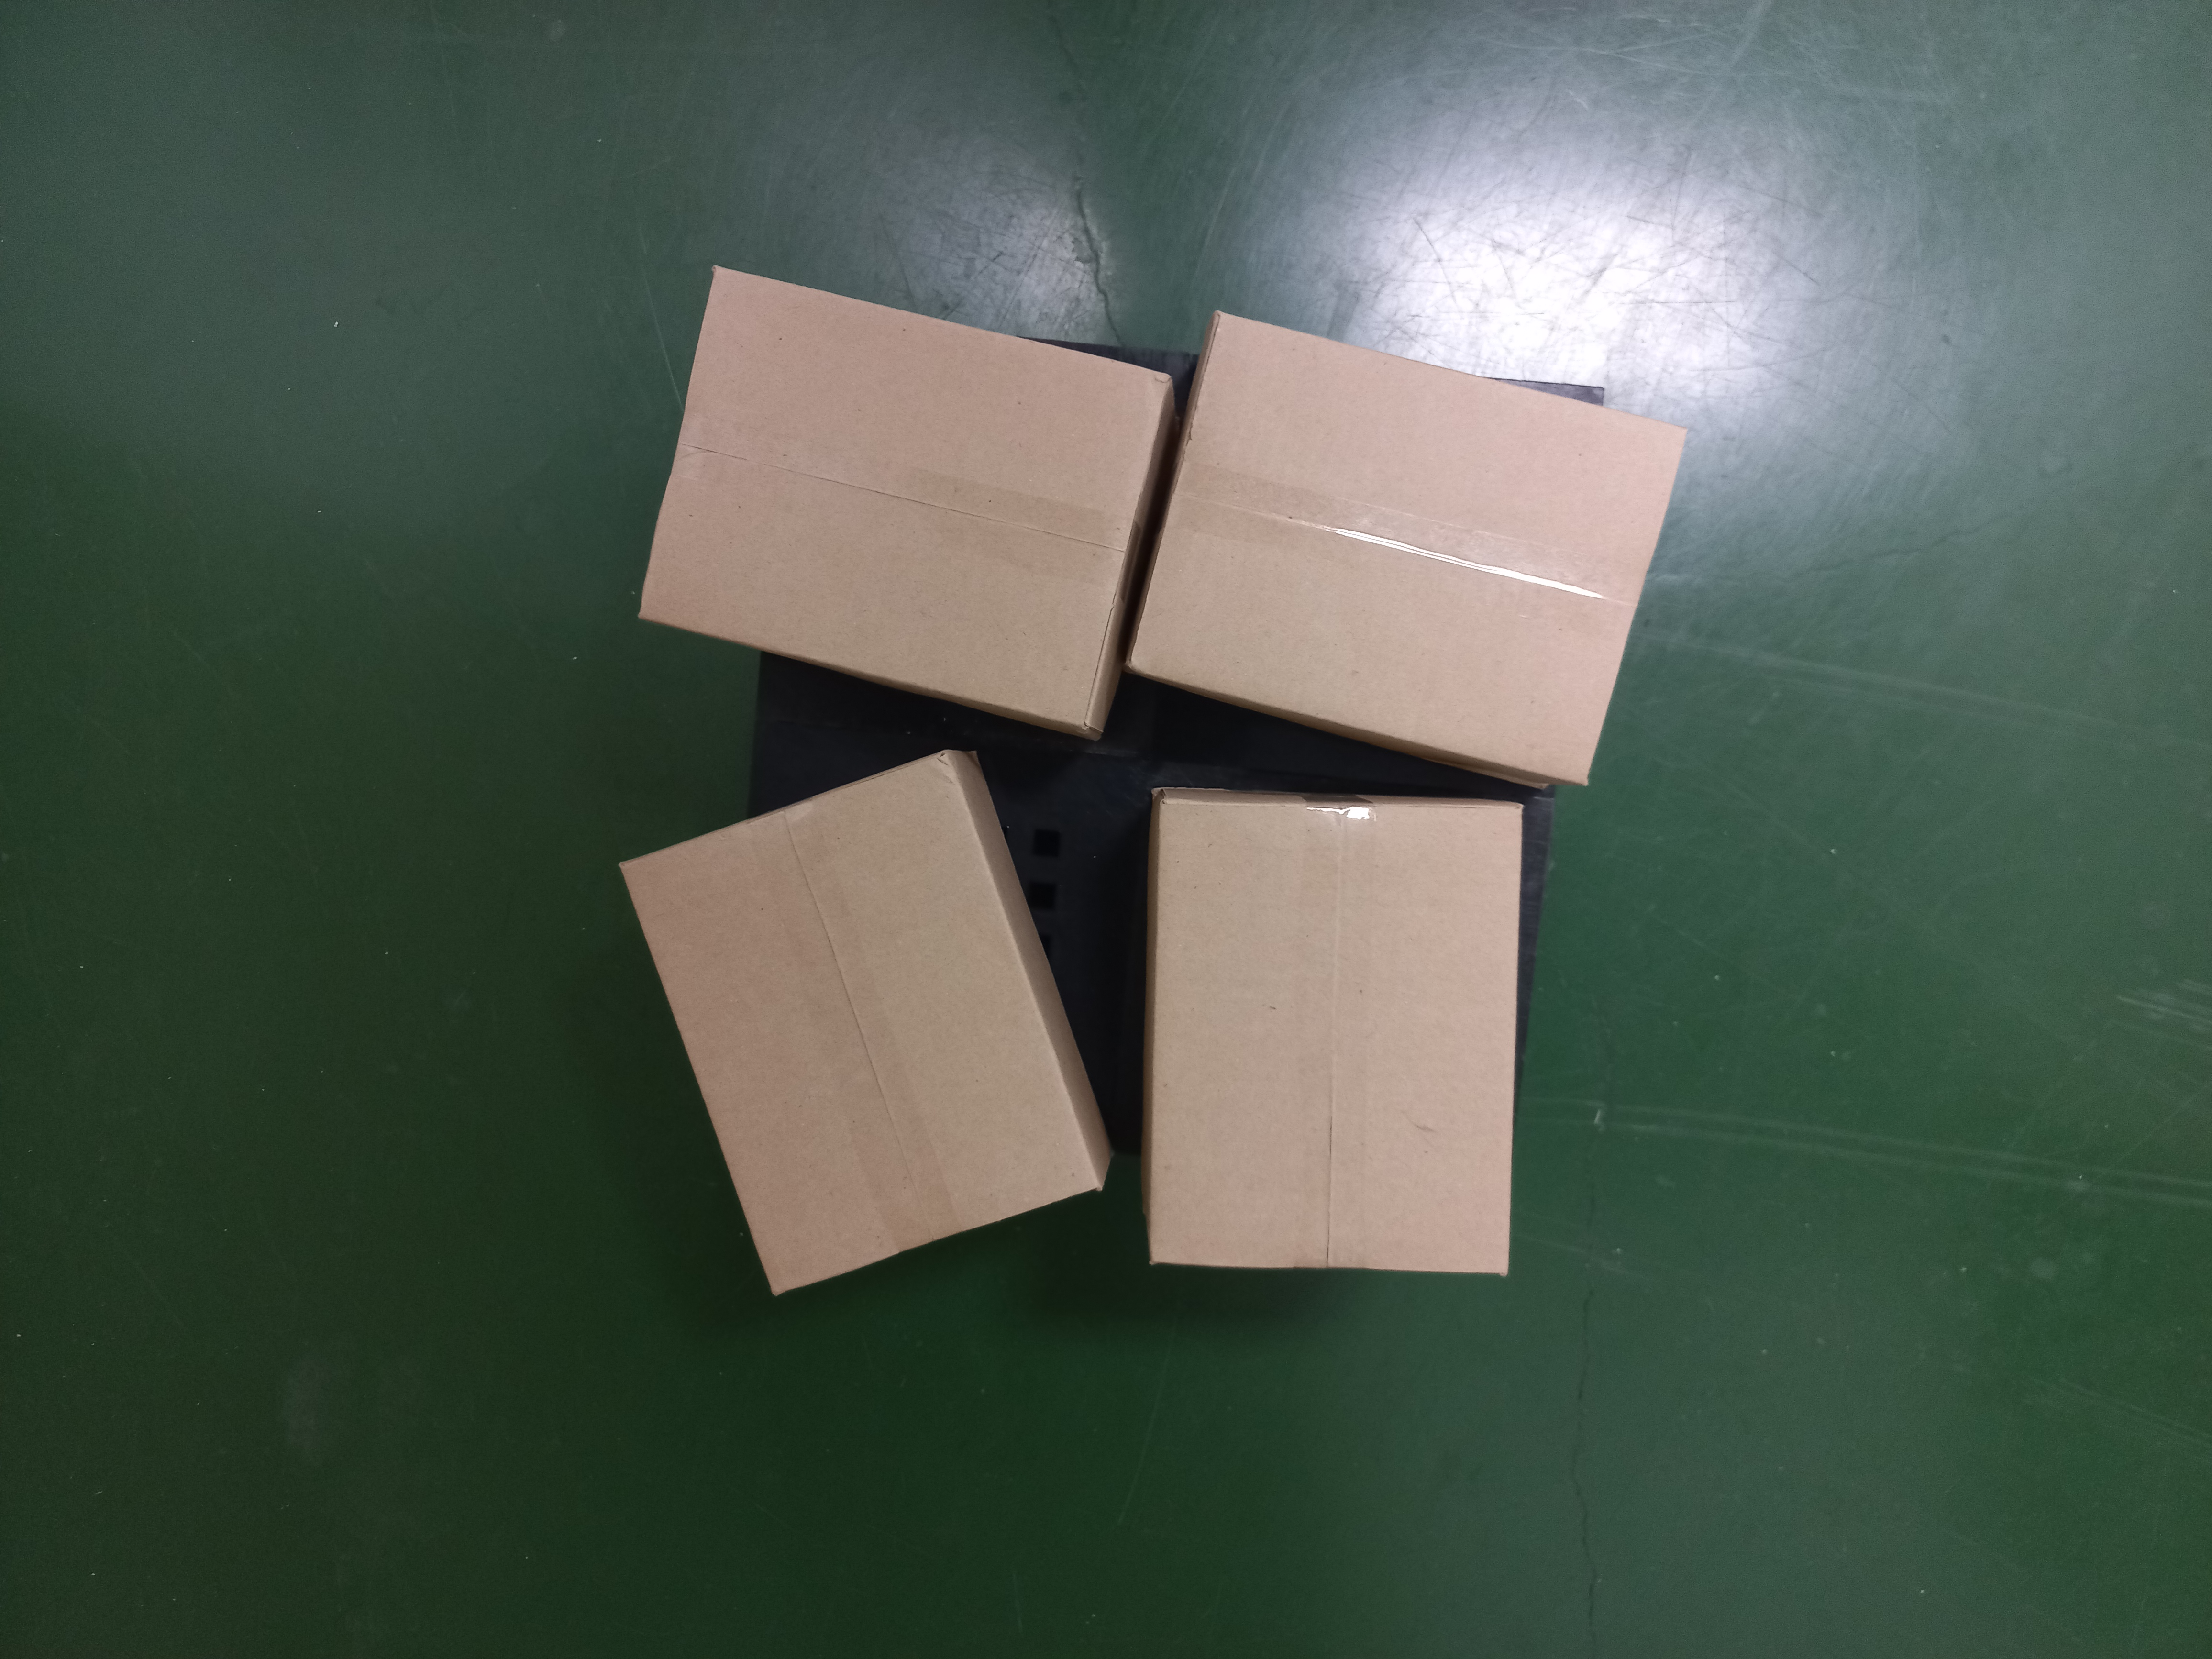box: (618, 741, 1109, 1302), (1130, 303, 1676, 795), (631, 253, 1176, 735), (1146, 782, 1529, 1283)
